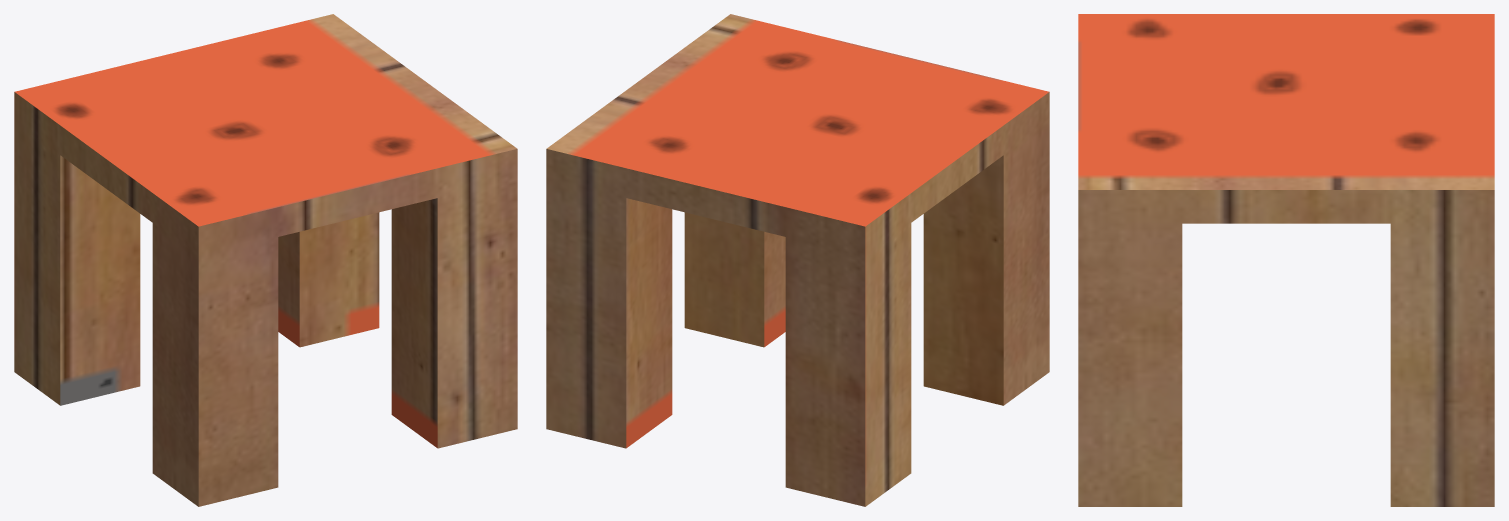
The model's file is Stol.obj.
3 renders of one model, left to right at view 1: azimuth 30°, elevation 25°; view 2: azimuth 150°, elevation 25°; view 3: azimuth 270°, elevation 25°, orthographic. The views are drawn at different scales.
Parts seen in each view (by area): view 1: pCube1; view 2: pCube1; view 3: pCube1.
Part boxes in pixels (left/top/right/bottom): pCube1: left=14, top=14, right=517, bottom=506; pCube1: left=546, top=14, right=1049, bottom=506; pCube1: left=1078, top=14, right=1494, bottom=506.
Bounding box in the file's own units: 1 × 0.8398 × 1.
1 material, 1 textured.
